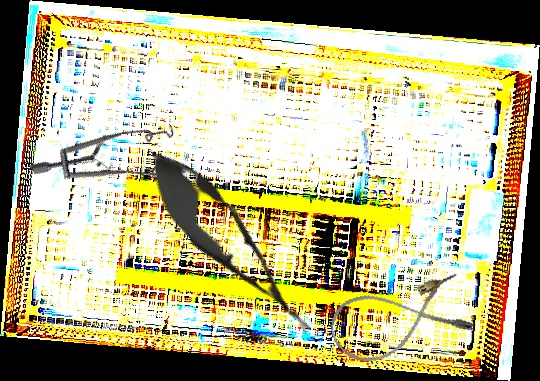Cannula: (324, 270, 476, 370)
Micro Scissor: (129, 135, 331, 351)
Speculum: (28, 86, 201, 248)
